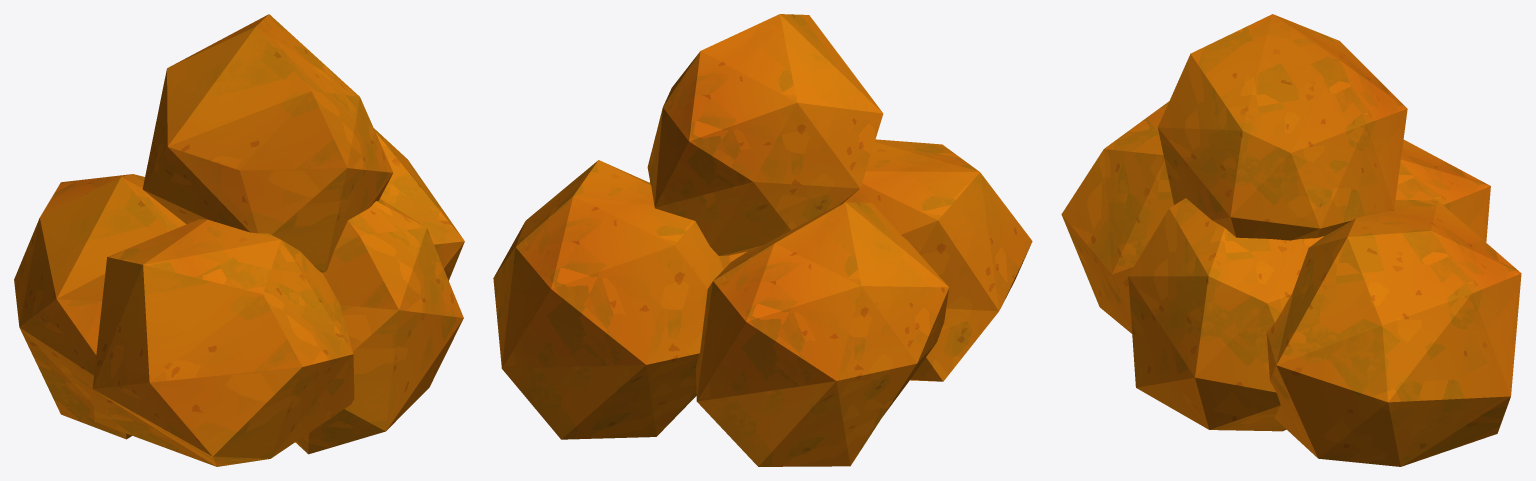
The model's file is gf_int_bigbolders4_1.glb.
3 views of the same model, side by side, from view 1: azimuth 30°, elevation 25°; view 2: azimuth 150°, elevation 25°; view 3: azimuth 270°, elevation 25° (orthographic). The views are drawn at different scales.
Parts seen in each view (by area): view 1: rocks2.2; view 2: rocks2.2; view 3: rocks2.2.
Boxes of the visible parts, <box> form: rocks2.2: <box>14,14,464,466</box>; rocks2.2: <box>493,14,1032,466</box>; rocks2.2: <box>1061,14,1521,466</box>.
Bounding box in the file's own units: 2.11 × 1.88 × 2.03.
1 material, 1 textured.
